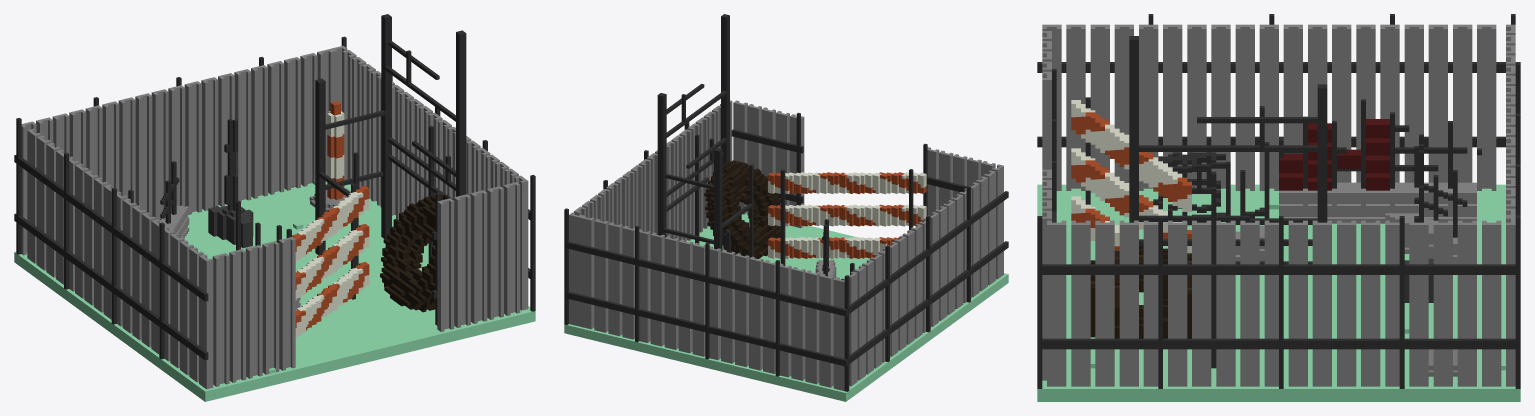
Rendered from Background_A_construction site 1.FBX.
The picture shows the model from 3 angles, left to right: view 1: azimuth 30°, elevation 25°; view 2: azimuth 150°, elevation 25°; view 3: azimuth 270°, elevation 25°; orthographic projection. The views are drawn at different scales.
Visible parts, largest first — view 1: Background_A_construction site; view 2: Background_A_construction site; view 3: Background_A_construction site.
Boxes of the visible parts, x1=… form: Background_A_construction site: x1=14, y1=14, x2=535, y2=401; Background_A_construction site: x1=564, y1=14, x2=1008, y2=401; Background_A_construction site: x1=1037, y1=14, x2=1520, y2=401.
Bounding box in the file's own units: 10 × 7.8 × 10.
Materials: 1 (1 with a texture image).
